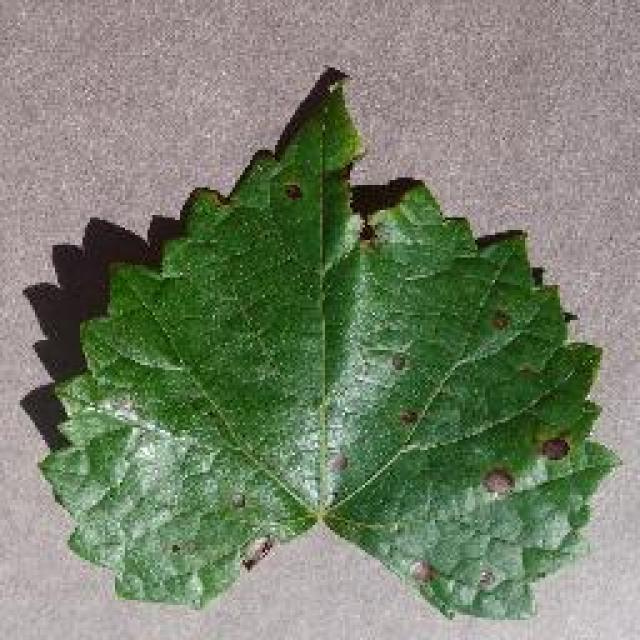Grape___Black_rot: (34, 76, 630, 624)
